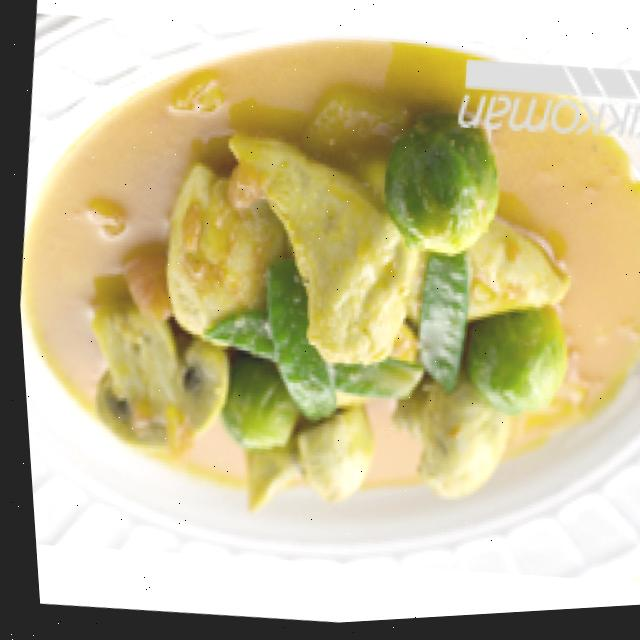汤锅炖物: (6, 84, 640, 619)
